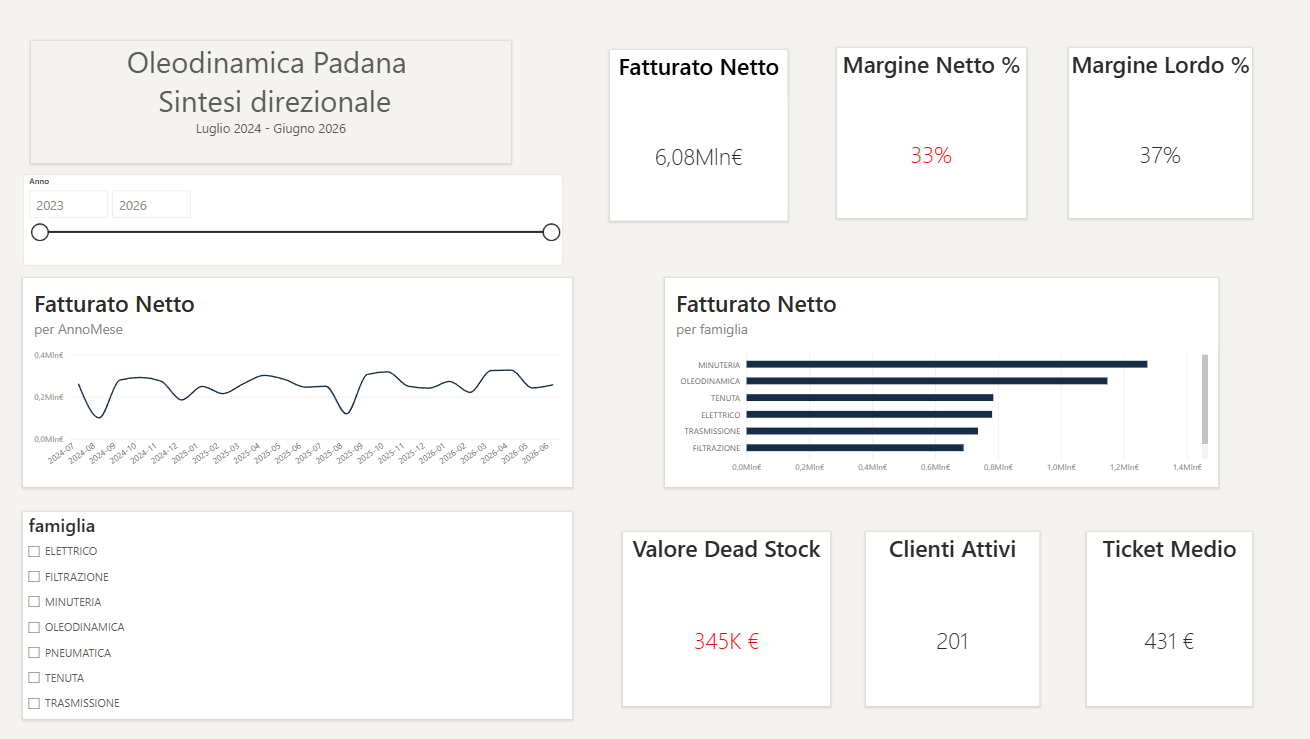

The page's visual inventory and layout, read from the dashboard file:
{"tool":"powerbi","page":{"name":"Sintesi direzionale","canvas":[1920,1080],"ordinal":0},"visuals":[{"type":"cardVisual","title":"Fatturato Netto","fields":{"Data":["_Misure.Fatturato Netto"]},"box":[895.8,72.9,259.4,248.7],"z":0},{"type":"cardVisual","title":"Margine Netto %","fields":{"Data":["_Misure.Margine Netto %"]},"box":[1227,70,275.7,248],"z":1000},{"type":"cardVisual","title":"Valore Dead Stock","fields":{"Data":["_Misure.Valore Dead Stock"]},"box":[914.8,776.2,302,253.9],"z":2000},{"type":"cardVisual","title":"Ticket Medio","fields":{"Data":["_Misure.Ticket Medio"]},"box":[1592.1,776.7,240.7,254],"z":3000},{"type":"cardVisual","title":"Clienti Attivi","fields":{"Data":["_Misure.Clienti Attivi"]},"box":[1268.9,776.7,252.7,254],"z":4000},{"type":"lineChart","fields":{"Category":["Calendario.AnnoMese"],"Y":["_Misure.Fatturato Netto"]},"box":[39.9,405.7,800.7,304.6],"z":5000},{"type":"barChart","fields":{"Category":["anagrafica_articoli.famiglia"],"Y":["_Misure.Fatturato Netto"]},"box":[976,405.6,807.3,304.6],"z":6000},{"type":"slicer","fields":{"Values":["Calendario.Anno"]},"box":[39.4,253.9,787.8,134.2],"z":7000},{"type":"cardVisual","title":"Margine Lordo %","fields":{"Data":["_Misure.Margine Lordo %"]},"box":[1565.5,70,267,248],"z":8000},{"type":"slicer","fields":{"Values":["anagrafica_articoli.famiglia"]},"box":[39.9,747.5,800.7,301.9],"z":9000},{"type":"textbox","box":[50.5,59.9,699.6,178.2],"z":10000}]}

Visuals, with their boxes in screenshot pixels (x1, y1, x2, y2), scaled from the page's 1920x1080 canvas onto the 1310x739 screenshot:
"Fatturato Netto" cardVisual: (611, 50, 788, 220)
"Margine Netto %" cardVisual: (837, 48, 1025, 218)
"Valore Dead Stock" cardVisual: (624, 531, 830, 705)
"Ticket Medio" cardVisual: (1086, 531, 1251, 705)
"Clienti Attivi" cardVisual: (866, 531, 1038, 705)
lineChart - Calendario.AnnoMese x _Misure.Fatturato Netto: (27, 278, 574, 486)
barChart - anagrafica_articoli.famiglia x _Misure.Fatturato Netto: (666, 278, 1217, 486)
slicer - Calendario.Anno: (27, 174, 564, 266)
"Margine Lordo %" cardVisual: (1068, 48, 1250, 218)
slicer - anagrafica_articoli.famiglia: (27, 511, 574, 718)
textbox: (34, 41, 512, 163)
